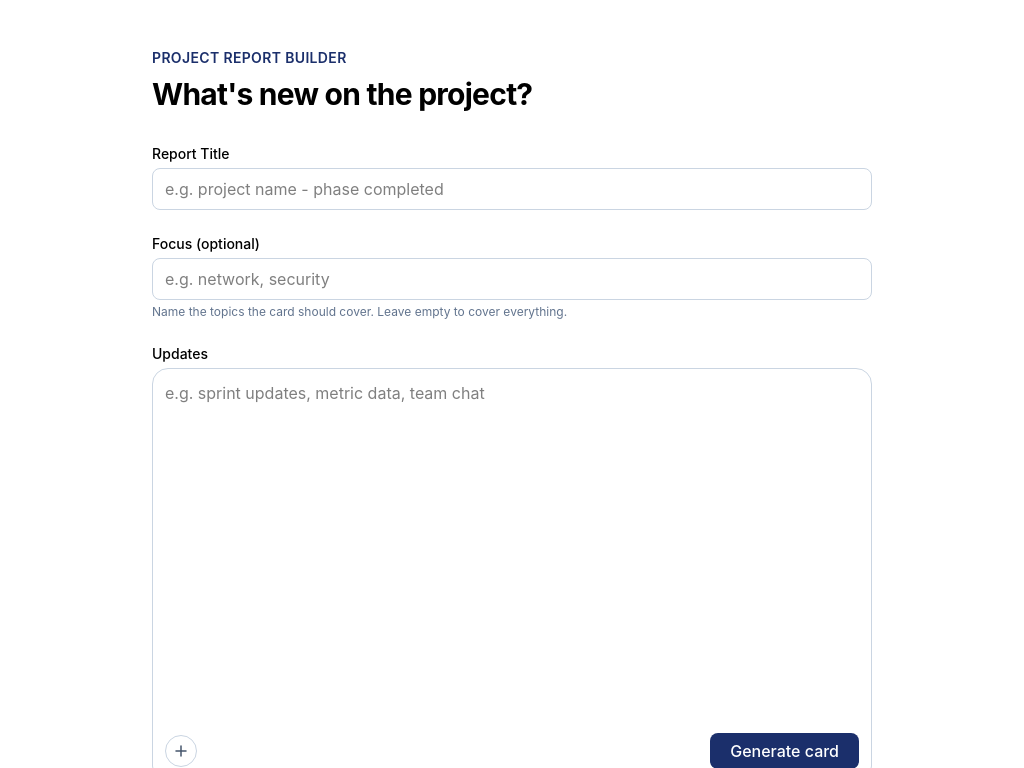
Test: card flow › writes the summary into the card, then unlocks save
Type "Atlas finished early." into the text box labelled "Updates" at point(512, 554), box 165,381 -> 859,727
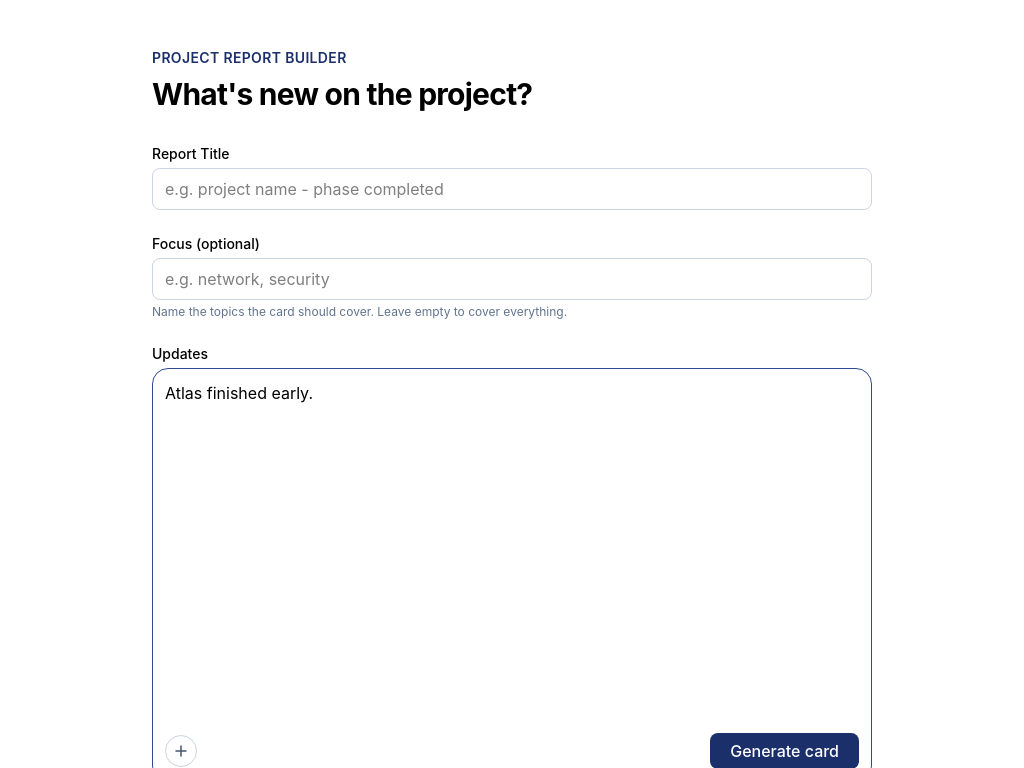
Click the button "Generate card" at point(785, 751), box 710,733 -> 859,767
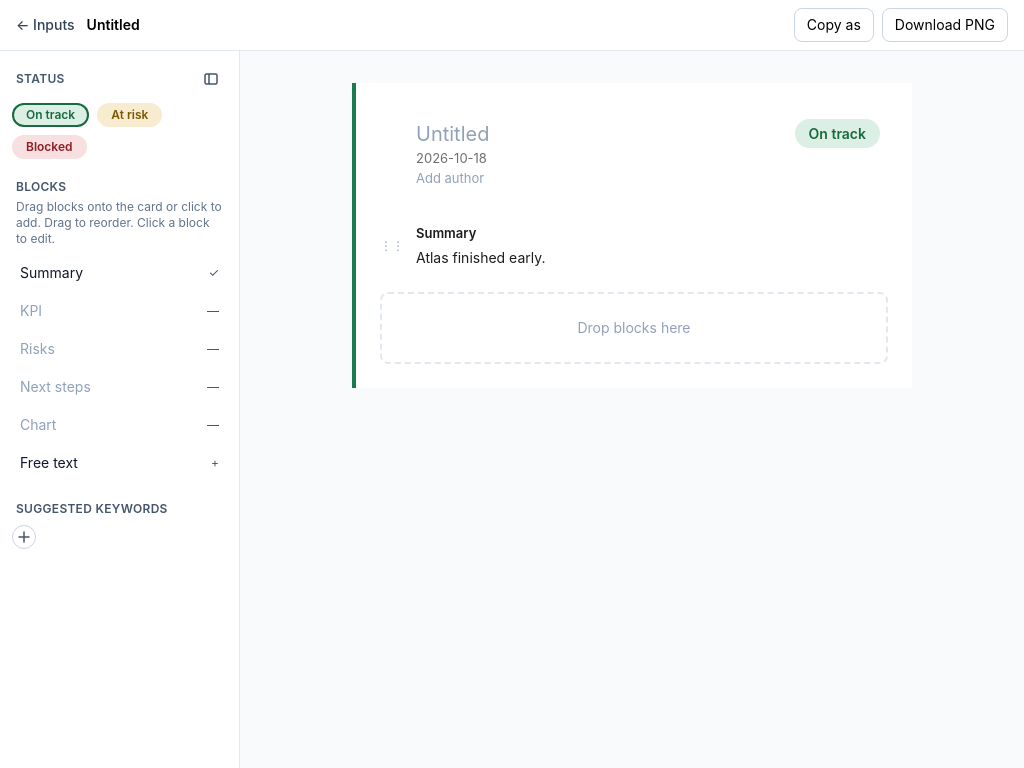
Expected: the button "Download PNG" is enabled, 882,8 -> 1008,42
Now the text box "Atlas finished early." is shown, box 416,248 -> 824,268
